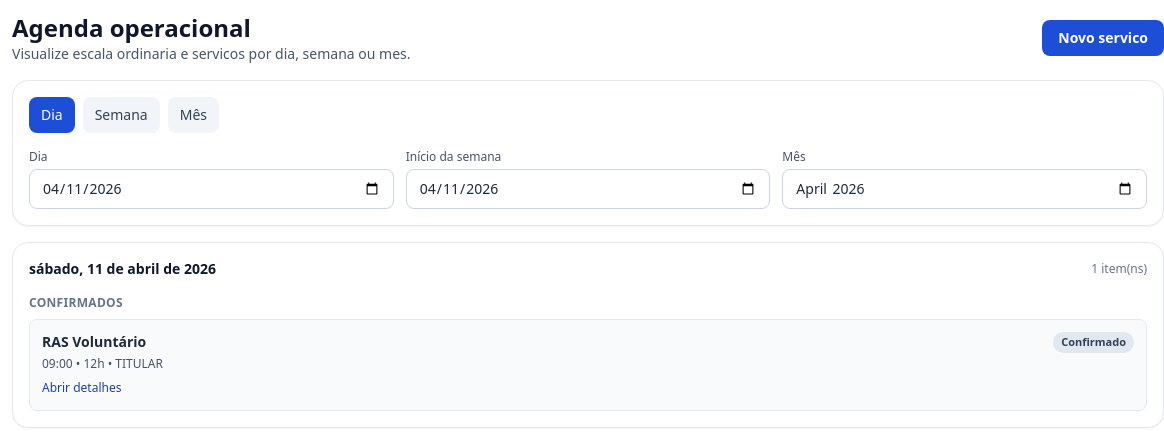
it: AgendaPage › renderiza empty state no modo mensal
Click the button "Mês" at [193, 115], box [168,97,219,133]
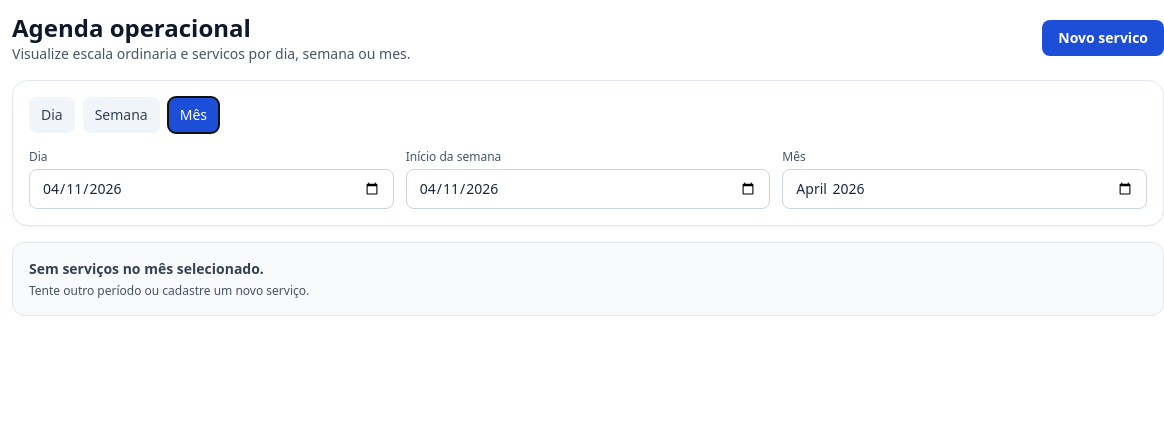
Expected: the text "Sem serviços no mês selecionado." is shown, [29,259,264,278]
